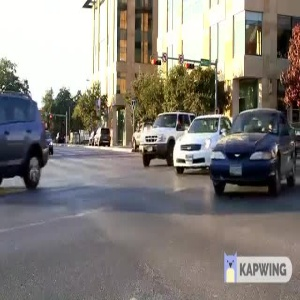car: (212, 105, 296, 205), (173, 109, 214, 169)
suv: (137, 107, 175, 164)
